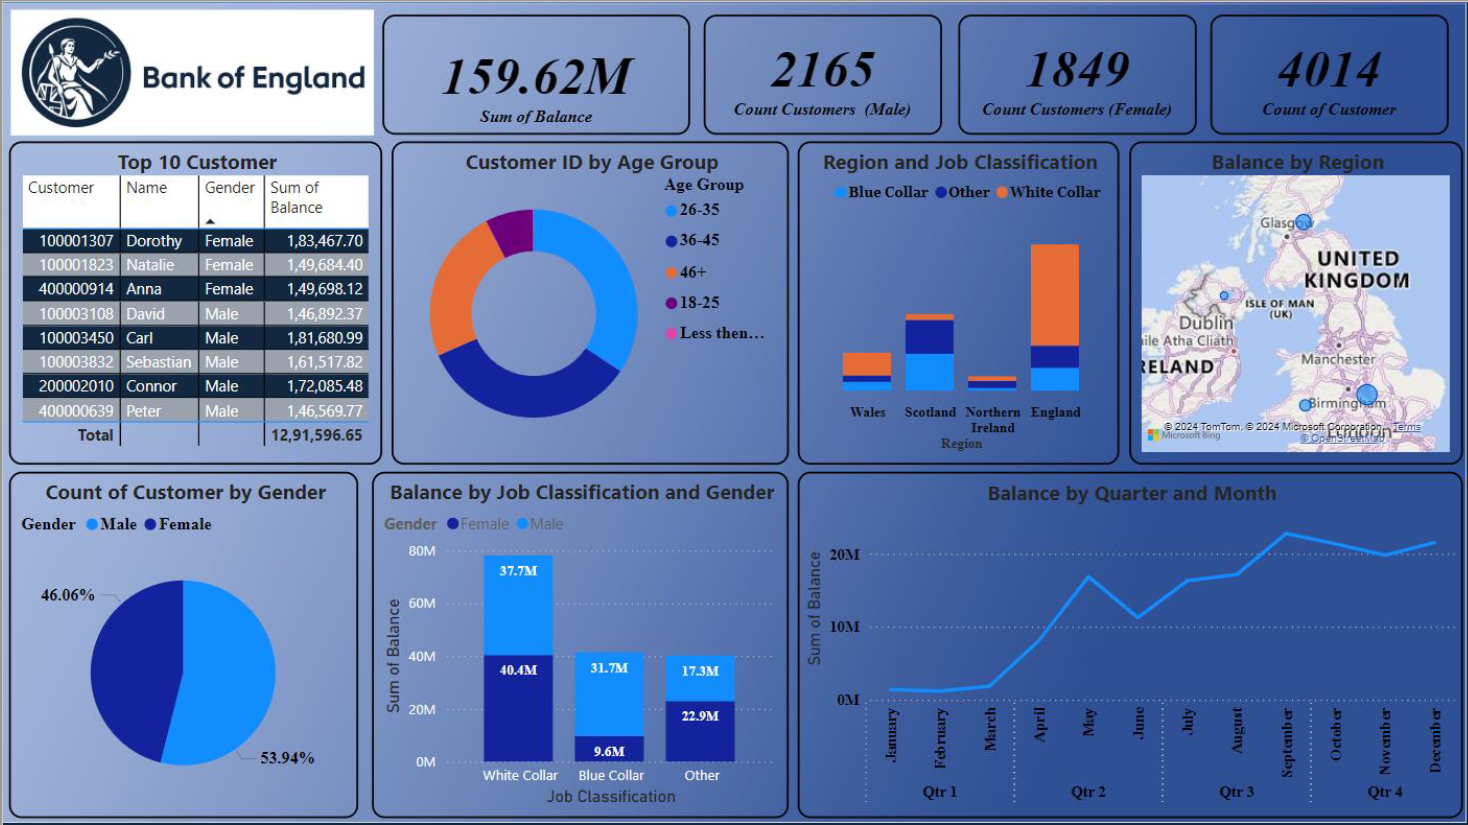

Layout of this report page (visuals, bound fields, positions):
{"tool":"powerbi","page":{"name":"Page 1","canvas":[1280,720],"ordinal":0},"visuals":[{"type":"image","box":[0,0,1280,719.7],"z":0},{"type":"columnChart","title":"Balance by Job Classification and Gender","fields":{"Category":["P6-UK-Bank-Customers.Job Classification"],"Y":["Sum(P6-UK-Bank-Customers.Balance)"],"Series":["P6-UK-Bank-Customers.Gender"]},"box":[326.9,410.6,360.5,300.2],"z":1000},{"type":"pieChart","fields":{"Category":["P6-UK-Bank-Customers.Gender"],"Y":["CountNonNull(P6-UK-Bank-Customers.Customer ID)"]},"box":[12.9,410.6,302.7,300.2],"z":2000},{"type":"lineChart","title":"Balance by Quarter and Month","fields":{"Y":["Sum(P6-UK-Bank-Customers.Balance)"],"Category":["P6-UK-Bank-Customers.Date Joined.Variation.Date Hierarchy.Quarter","P6-UK-Bank-Customers.Date Joined.Variation.Date Hierarchy.Month"]},"box":[695.2,410.6,576.2,300.2],"z":3000},{"type":"columnChart","title":"Region and Job Classification","fields":{"Category":["P6-UK-Bank-Customers.Region"],"Series":["P6-UK-Bank-Customers.Job Classification"],"Y":["Sum(P6-UK-Bank-Customers.Balance)"]},"box":[695.2,124.2,278.6,280.3],"z":4000},{"type":"card","fields":{"Values":["Count(P6-UK-Bank-Customers.Customer ID)"]},"box":[1052.4,14.6,206.2,104.1],"z":5000},{"type":"donutChart","title":"Customer ID by Age Group","fields":{"Y":["CountNonNull(P6-UK-Bank-Customers.Customer ID)"],"Category":["P6-UK-Bank-Customers.AgeGroup"]},"box":[343.3,124.5,344.3,280.1],"z":6000},{"type":"tableEx","title":"Top 10 Customer","fields":{"Values":["CountNonNull(P6-UK-Bank-Customers.Customer ID)","P6-UK-Bank-Customers.Name","P6-UK-Bank-Customers.Gender","Sum(P6-UK-Bank-Customers.Balance)"]},"box":[12.6,124.5,322.9,280.1],"z":7000},{"type":"card","fields":{"Values":["P6-UK-Bank-Customers.CountCustomersByGender"]},"box":[613.7,14.6,206.2,104.1],"z":8000},{"type":"card","fields":{"Values":["P6-UK-Bank-Customers.Count of Gender for Female"]},"box":[834.5,14.6,206.2,104.1],"z":9000},{"type":"card","fields":{"Values":["Sum(P6-UK-Bank-Customers.Balance)"]},"box":[335.6,14.6,266.5,104.1],"z":10000},{"type":"map","title":"Balance by Region","fields":{"Size":["Sum(P6-UK-Bank-Customers.Balance)"],"Category":["P6-UK-Bank-Customers.Region"]},"box":[982.4,124.2,288.9,280.3],"z":11000},{"type":"image","box":[6.8,5.8,328.8,118.7],"z":12000}]}

Visuals, with their boxes in screenshot pixels (x1, y1, x2, y2), scaled from the page's 1280x720 canvas onto the 1468x825 screenshot:
image: left=0, top=0, right=1467, bottom=824
"Balance by Job Classification and Gender" columnChart: left=375, top=470, right=788, bottom=814
pieChart - P6-UK-Bank-Customers.Gender x CountNonNull(P6-UK-Bank-Customers.Customer ID): left=15, top=470, right=362, bottom=814
"Balance by Quarter and Month" lineChart: left=797, top=470, right=1458, bottom=814
"Region and Job Classification" columnChart: left=797, top=142, right=1117, bottom=463
card - Count(P6-UK-Bank-Customers.Customer ID): left=1207, top=17, right=1443, bottom=136
"Customer ID by Age Group" donutChart: left=394, top=143, right=789, bottom=464
"Top 10 Customer" tableEx: left=14, top=143, right=385, bottom=464
card - P6-UK-Bank-Customers.CountCustomersByGender: left=704, top=17, right=940, bottom=136
card - P6-UK-Bank-Customers.Count of Gender for Female: left=957, top=17, right=1194, bottom=136
card - Sum(P6-UK-Bank-Customers.Balance): left=385, top=17, right=691, bottom=136
"Balance by Region" map: left=1127, top=142, right=1458, bottom=463
image: left=8, top=7, right=385, bottom=143
